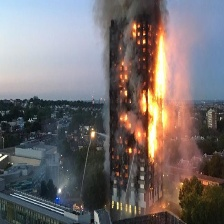fire: (155, 33, 170, 97), (147, 90, 158, 162), (119, 76, 130, 99), (120, 115, 133, 132), (160, 103, 170, 125), (138, 91, 147, 115), (131, 21, 138, 41), (128, 147, 135, 155)
smoke: (90, 1, 114, 169), (170, 35, 197, 181), (89, 1, 165, 22)
